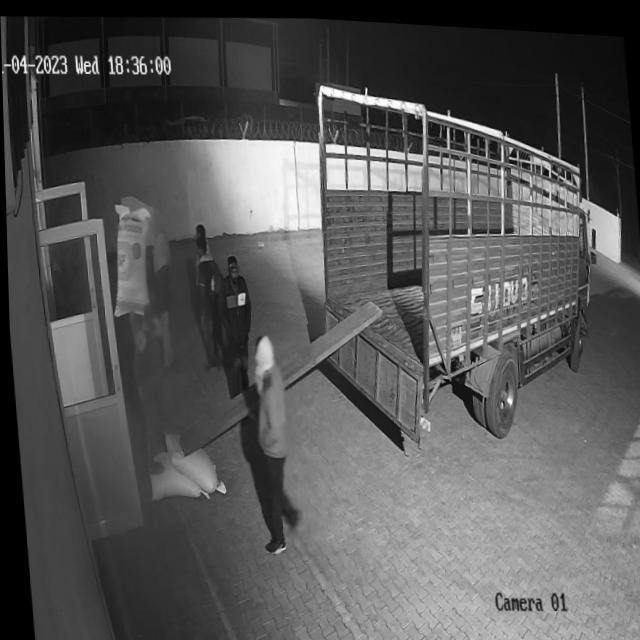sack: (106, 200, 155, 318), (161, 428, 223, 493), (144, 446, 207, 503)
